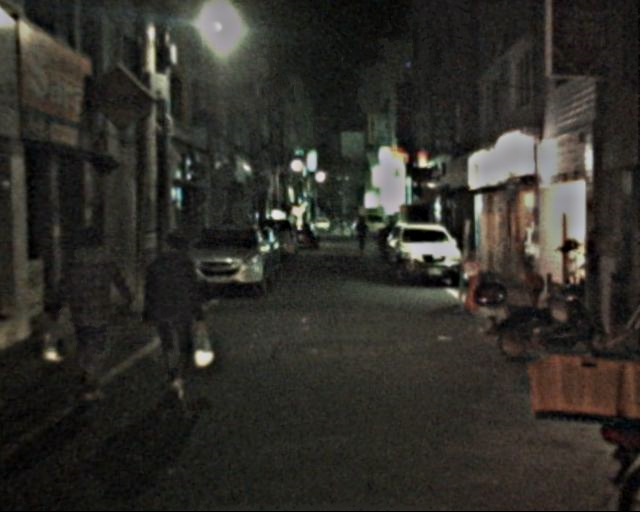person: (138, 233, 209, 398), (58, 224, 126, 395), (352, 217, 368, 253)
